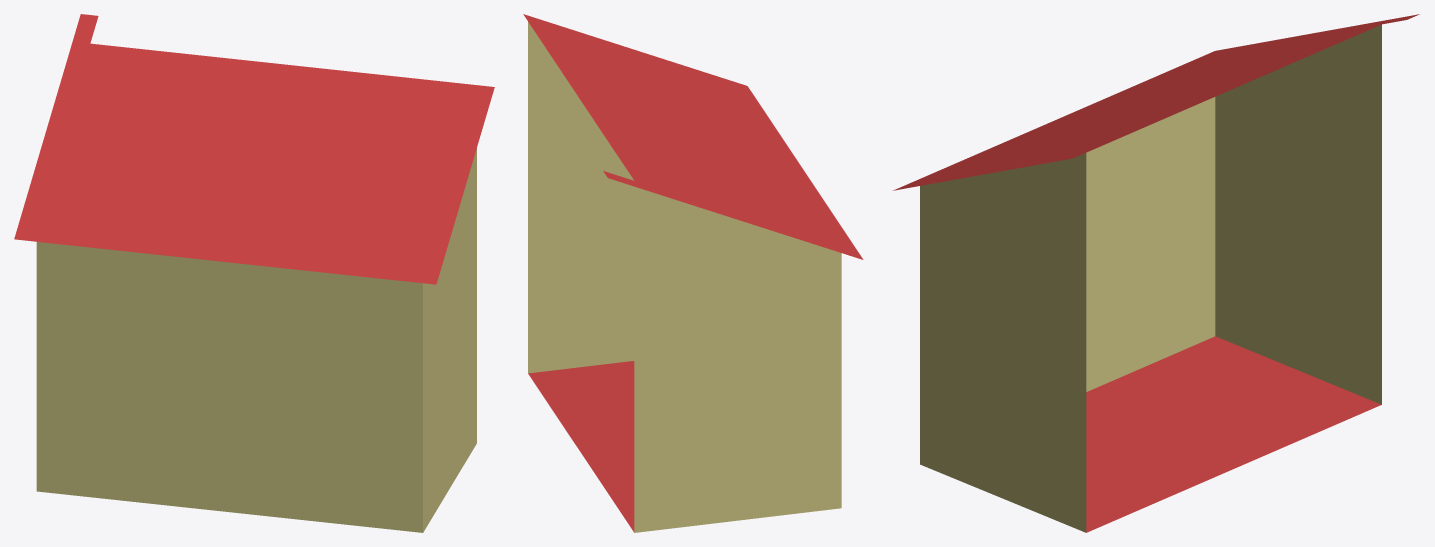
The picture shows the model from 3 angles, left to right: view 1: azimuth 30°, elevation 25°; view 2: azimuth 150°, elevation 25°; view 3: azimuth 270°, elevation 25°; orthographic projection. The views are drawn at different scales.
Size of the model in its own units: 12.96 by 13.51 by 11.14.
